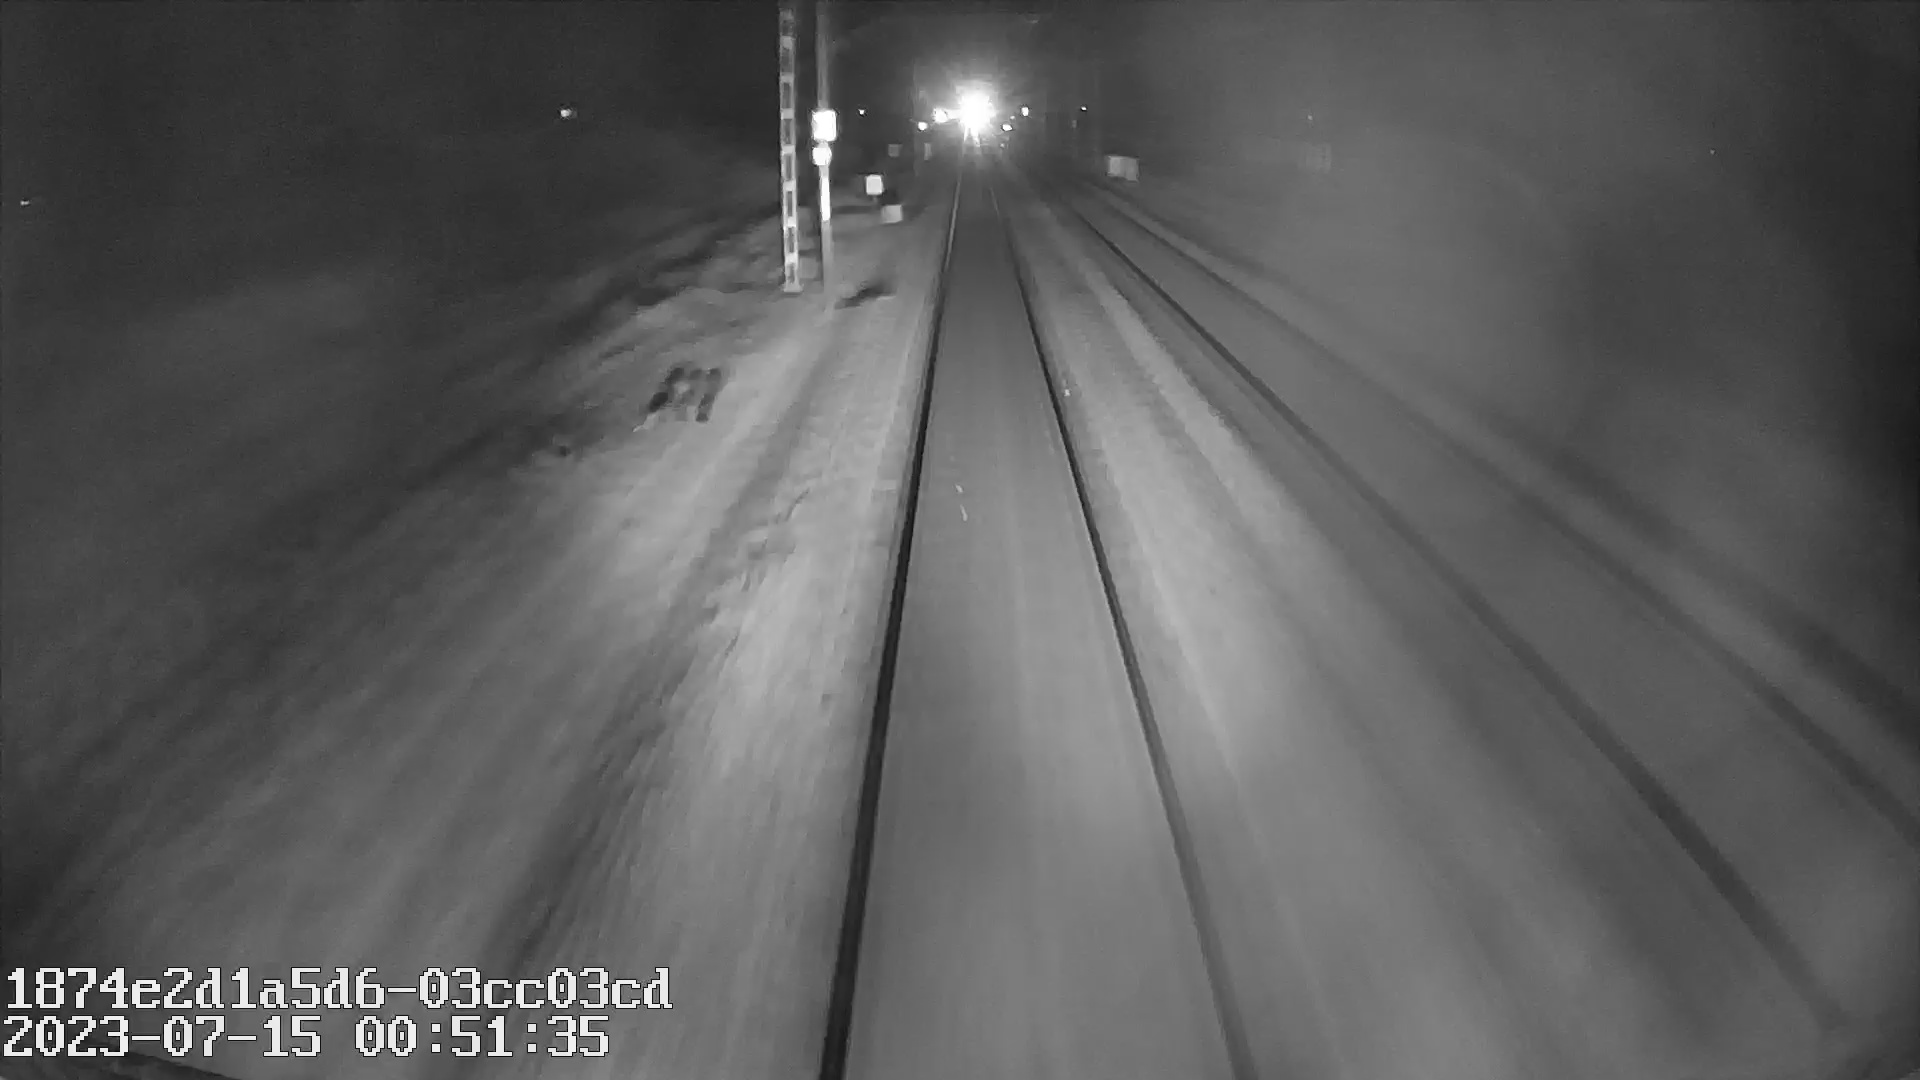track1: (837, 175, 1241, 1051)
track2: (1067, 189, 1911, 957)
